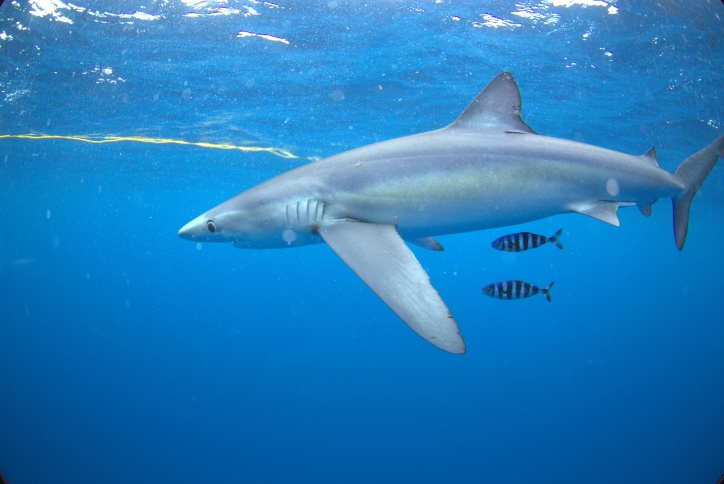Azul: (153, 59, 724, 361)
